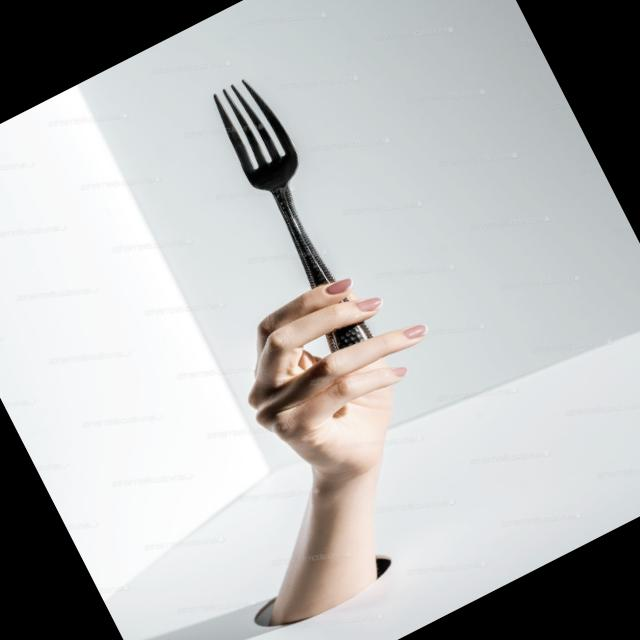fork: (201, 70, 399, 376)
